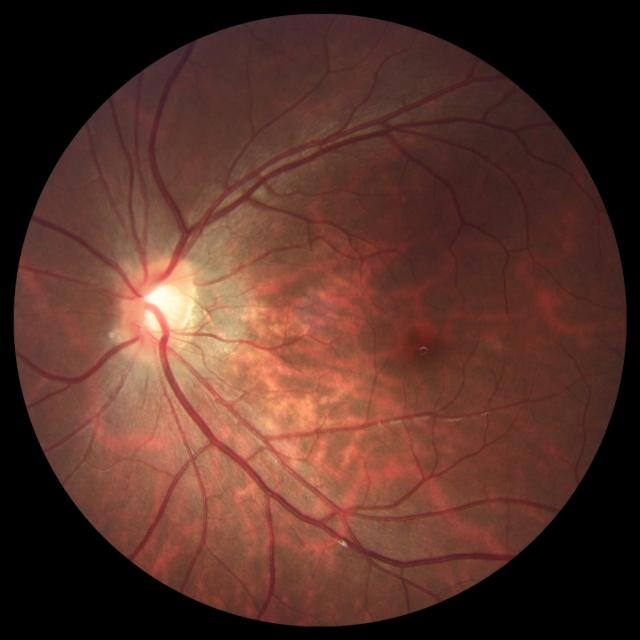OC: (140, 282, 182, 333)
OD: (119, 256, 197, 357)
